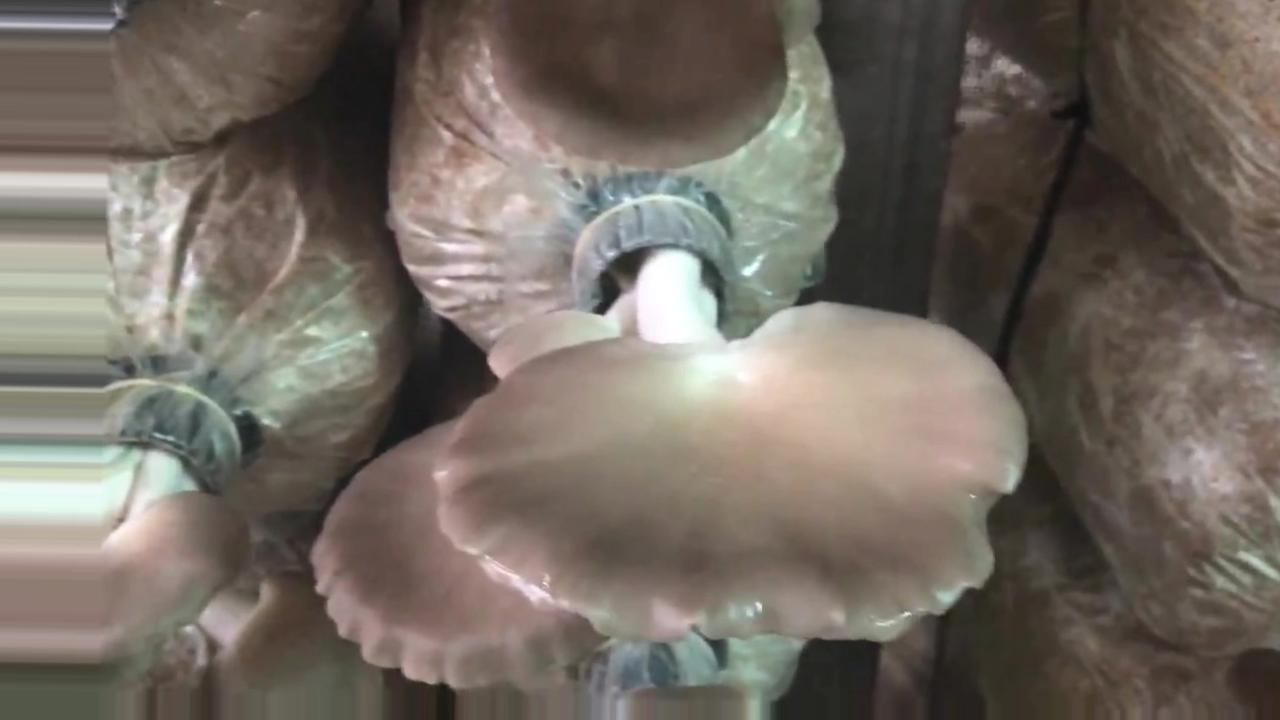nam: (431, 174, 1030, 656), (302, 414, 607, 691), (2, 370, 253, 671), (490, 1, 789, 180)
